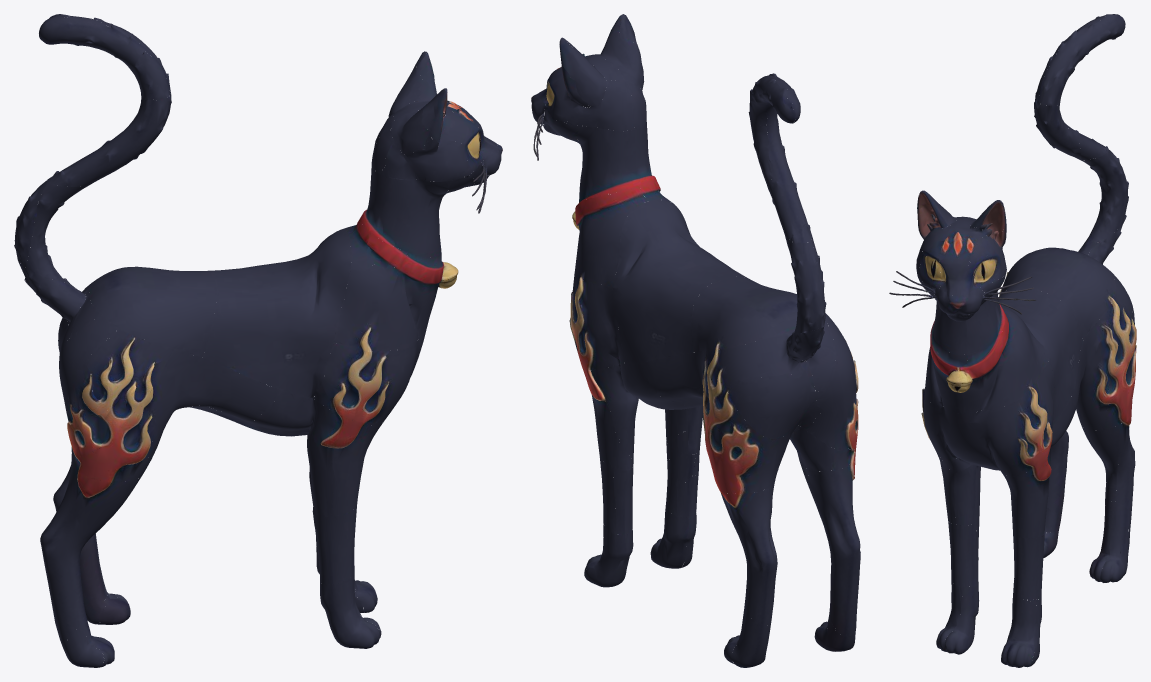
Rendered from bakeneko_lite.glb.
The picture shows the model from 3 angles, left to right: view 1: azimuth 30°, elevation 25°; view 2: azimuth 150°, elevation 25°; view 3: azimuth 270°, elevation 25°; orthographic projection. The views are drawn at different scales.
Parts seen in each view (by area): view 1: kusuriuri; view 2: kusuriuri; view 3: kusuriuri.
Boxes of the visible parts, x1,y1,x2,y2 form: kusuriuri: [14, 14, 502, 667]; kusuriuri: [531, 14, 860, 667]; kusuriuri: [889, 14, 1136, 667].
Bounding box in the file's own units: 0.7866 × 1.15 × 0.4735.
1 material, 1 textured.
